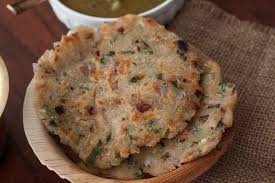rotti: (47, 20, 225, 165)
